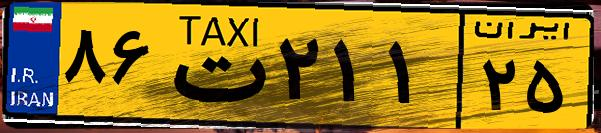1: (385, 28, 445, 110), (330, 28, 385, 110)
2: (270, 28, 330, 110), (475, 38, 525, 113)
5: (525, 38, 570, 115)
6: (110, 28, 158, 98)
8: (57, 26, 110, 100)
ت: (158, 12, 270, 120)
